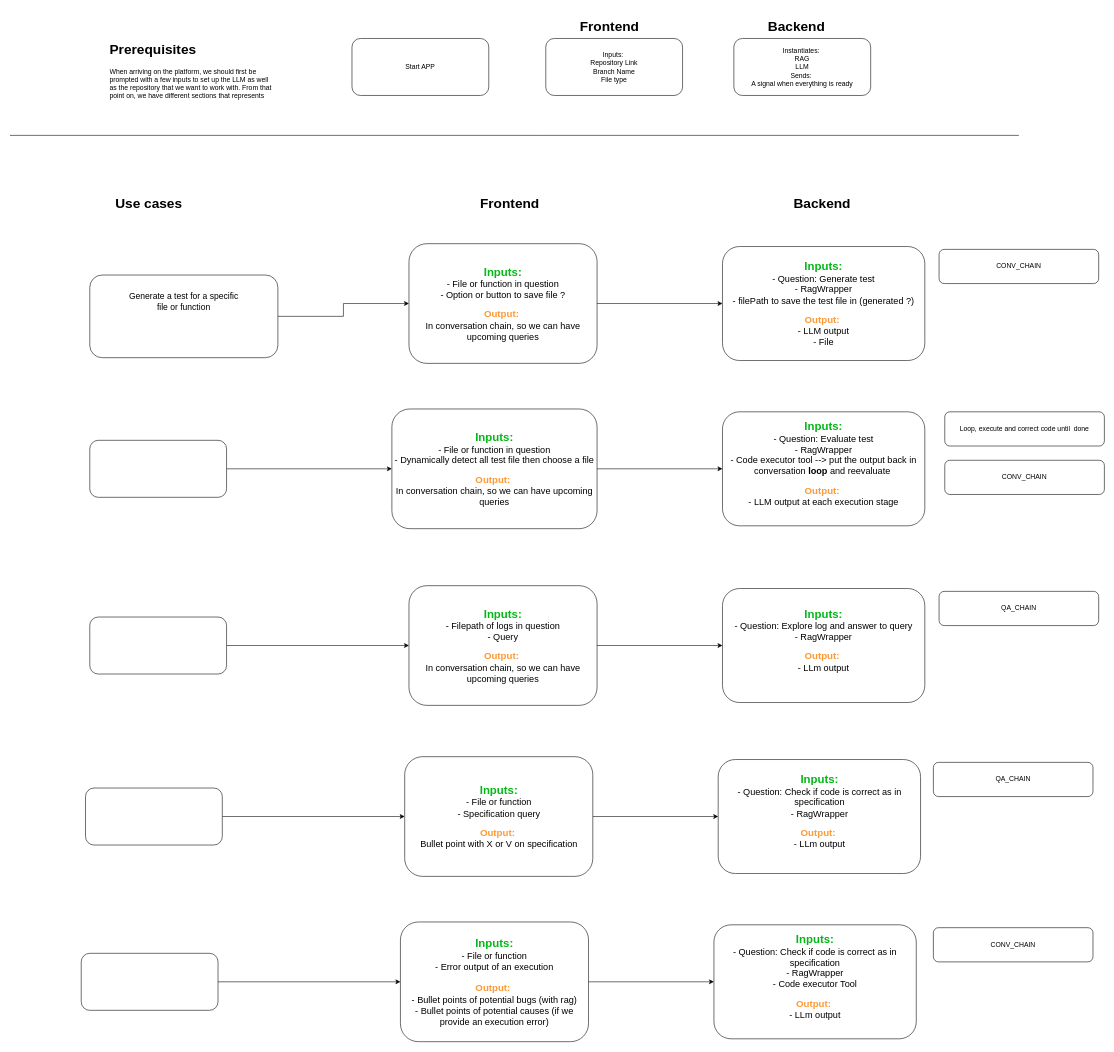
Image size: 1114x1052. Some labels were removed from this diagram. The centre of each missing label's shape, as x and y in pixels:
"Code reader: Check if a code respects specification" goes at (x=153, y=816).
"Code reader: Detect bug in a file" goes at (x=149, y=981).
"Evaluate a test and correct or complete if necessary" goes at (x=158, y=468).
"Log reader: read a log and get inforrmation" goes at (x=158, y=645).
